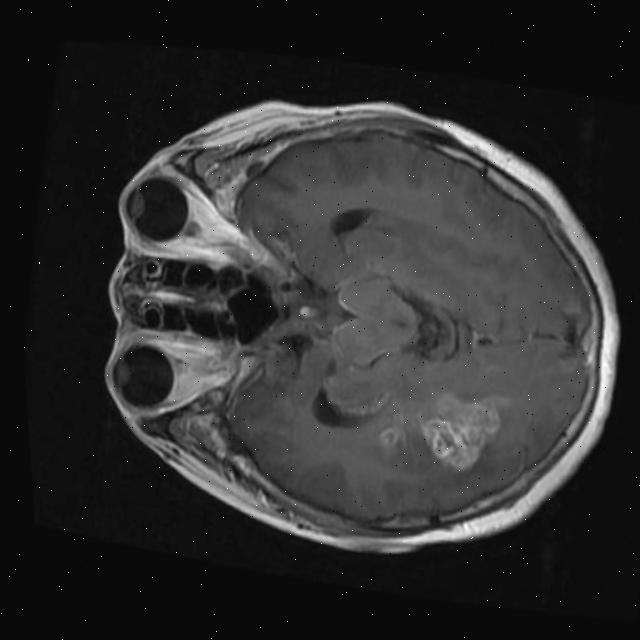Glioma: (414, 383, 508, 478)
